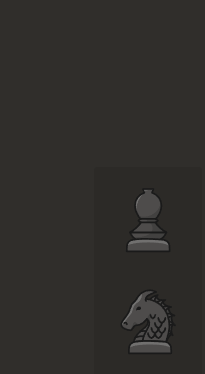H: (113, 277, 186, 363)
W: (116, 182, 179, 260)
